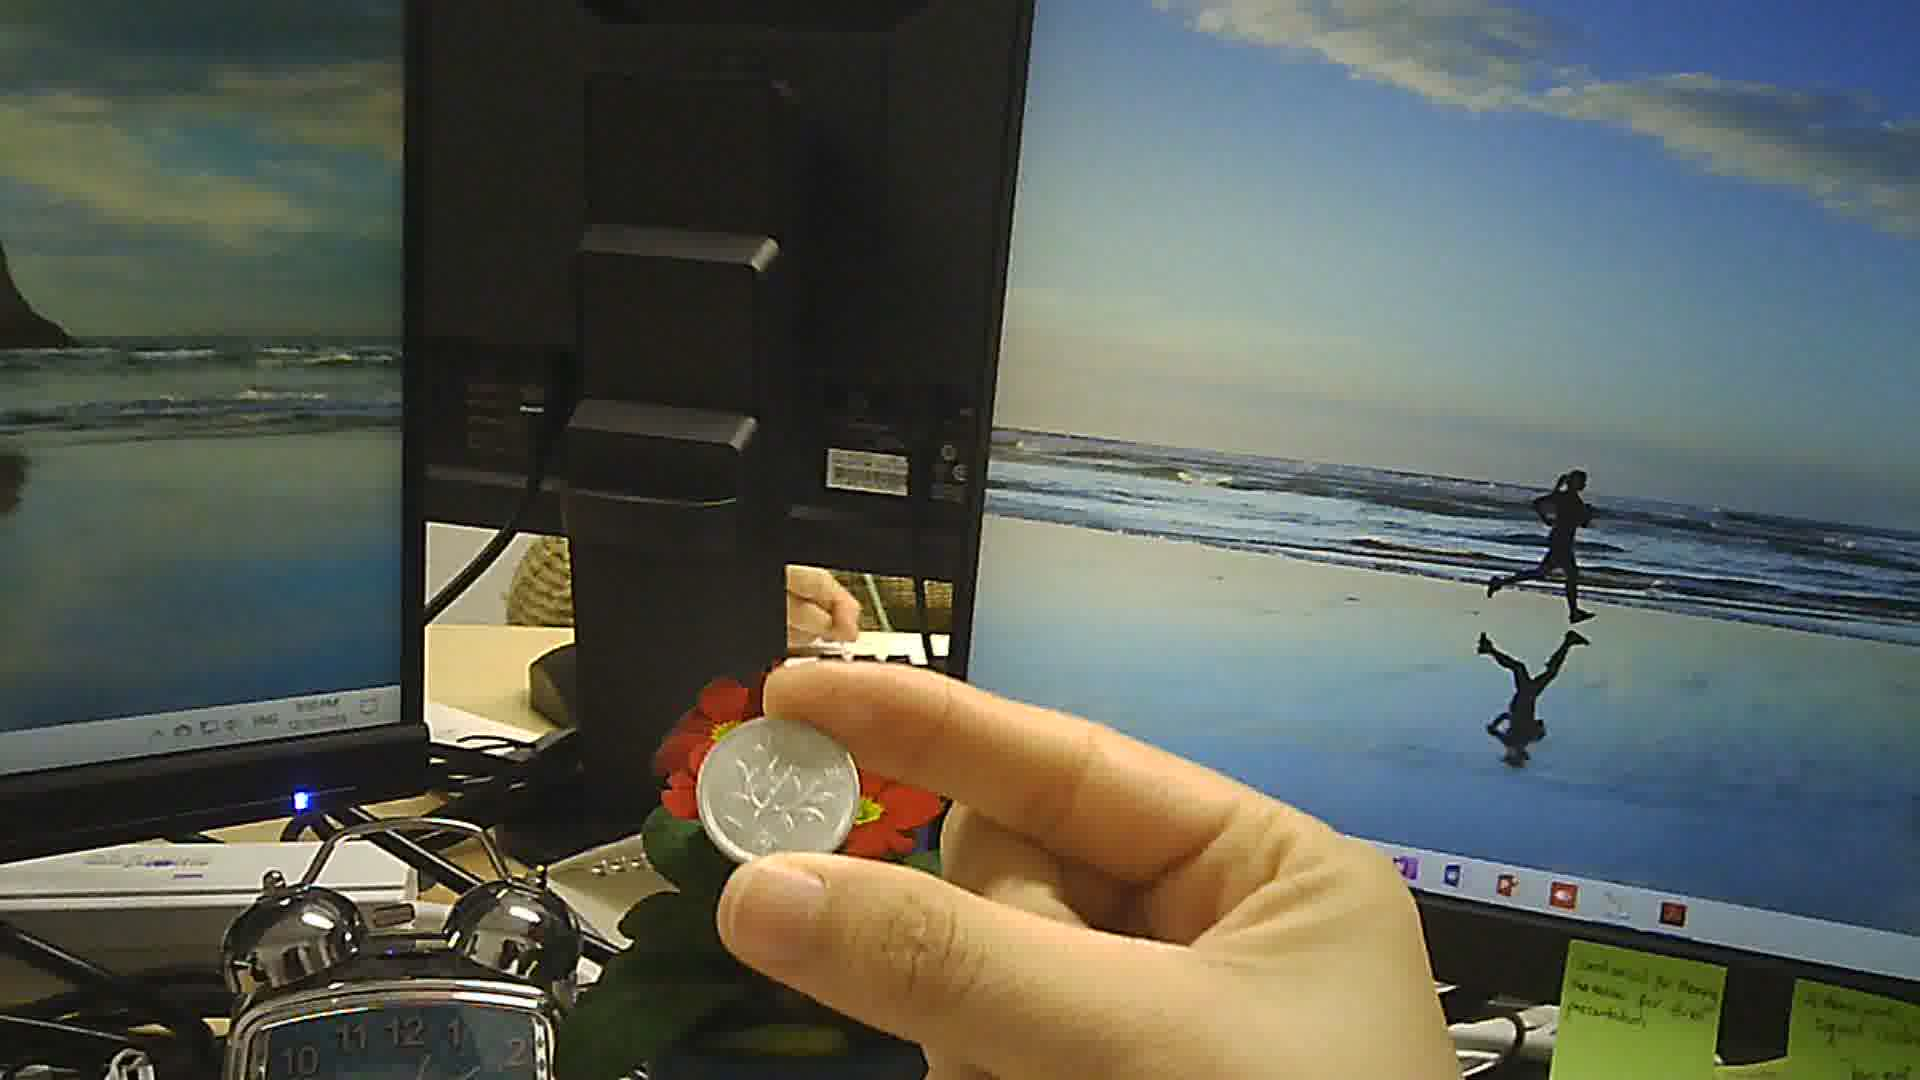1 Yen: (691, 707, 866, 866)
